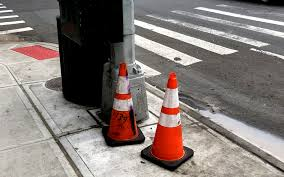cones: (144, 72, 194, 170), (102, 66, 145, 146)
